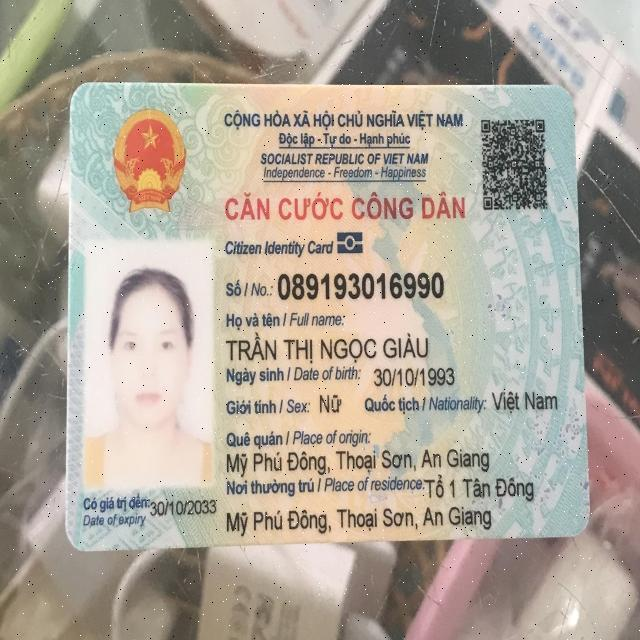current_place: (224, 503, 499, 537), (420, 470, 542, 502)
dob: (371, 365, 460, 389)
expire_date: (148, 499, 220, 517)
gender: (318, 389, 350, 419)
id: (270, 268, 446, 303)
name: (222, 328, 437, 358)
nationality: (489, 382, 561, 417)
origin_place: (223, 446, 500, 473)
